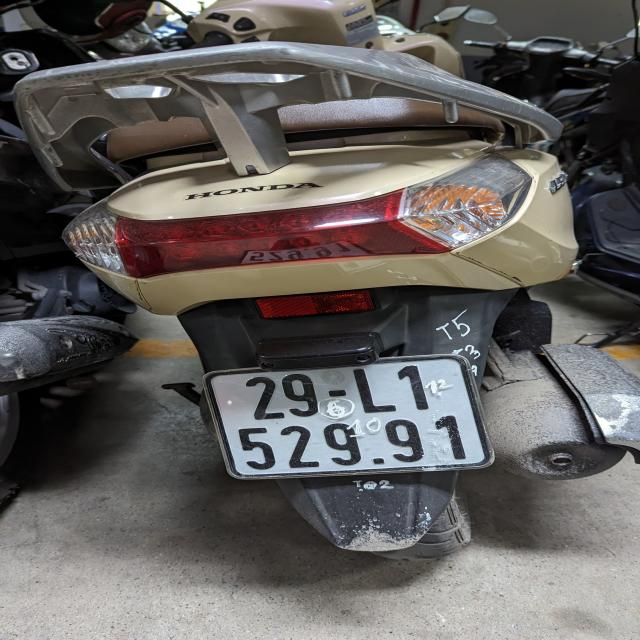License: (200, 353, 494, 481)
